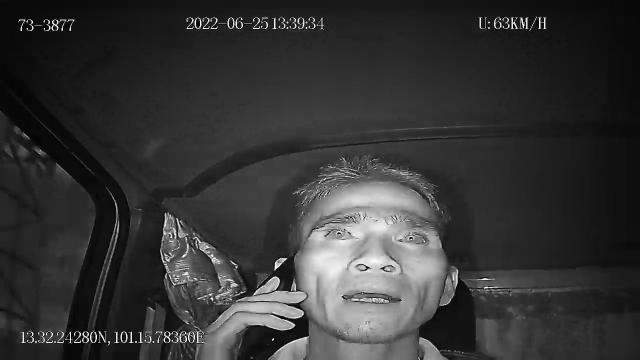PhoneUse: (240, 253, 296, 357)
SafeDriving: (387, 222, 435, 252), (319, 220, 362, 246)
